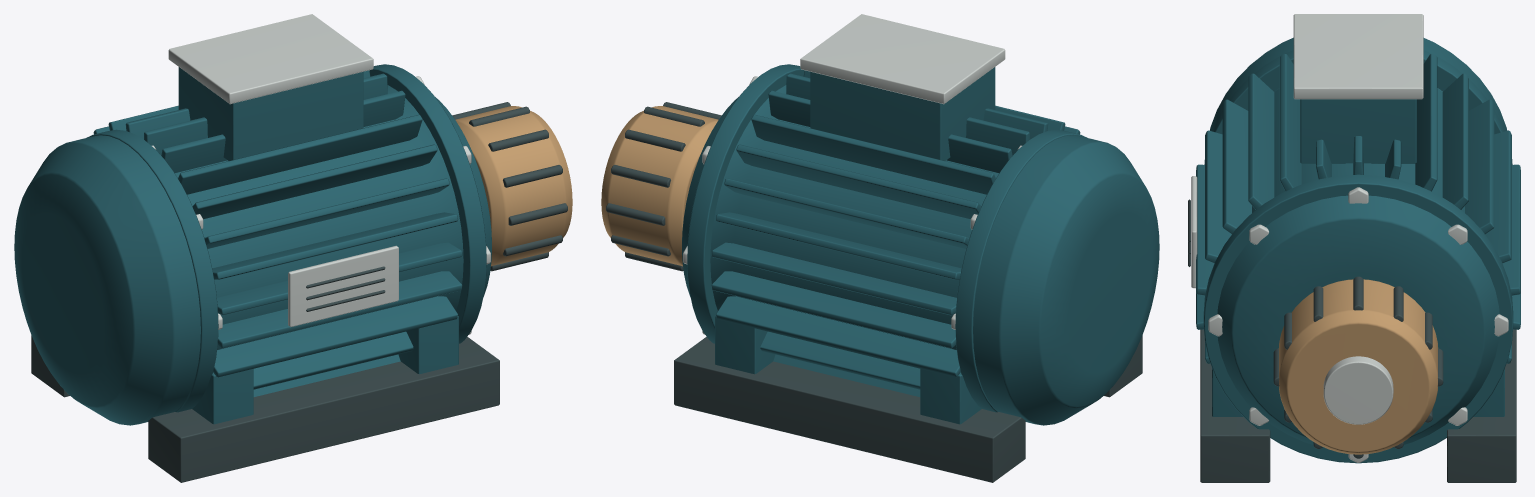
Rendered from induction-motor.glb.
3 views of the same model, side by side, from view 1: azimuth 30°, elevation 25°; view 2: azimuth 150°, elevation 25°; view 3: azimuth 270°, elevation 25° (orthographic). The views are drawn at different scales.
Parts seen in each view (by area): view 1: induction-motor; view 2: induction-motor; view 3: induction-motor.
Boxes of the visible parts, x1,y1,x2,y2 form: induction-motor: (14, 14, 572, 482); induction-motor: (601, 14, 1159, 482); induction-motor: (1188, 14, 1520, 482).
Size of the model in its own units: 1.78 by 1.17 by 0.9988.
